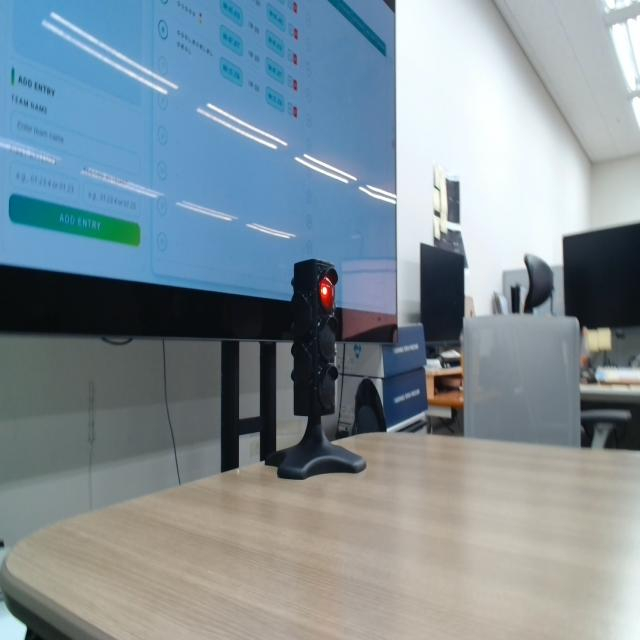red_light: (319, 277, 334, 311)
